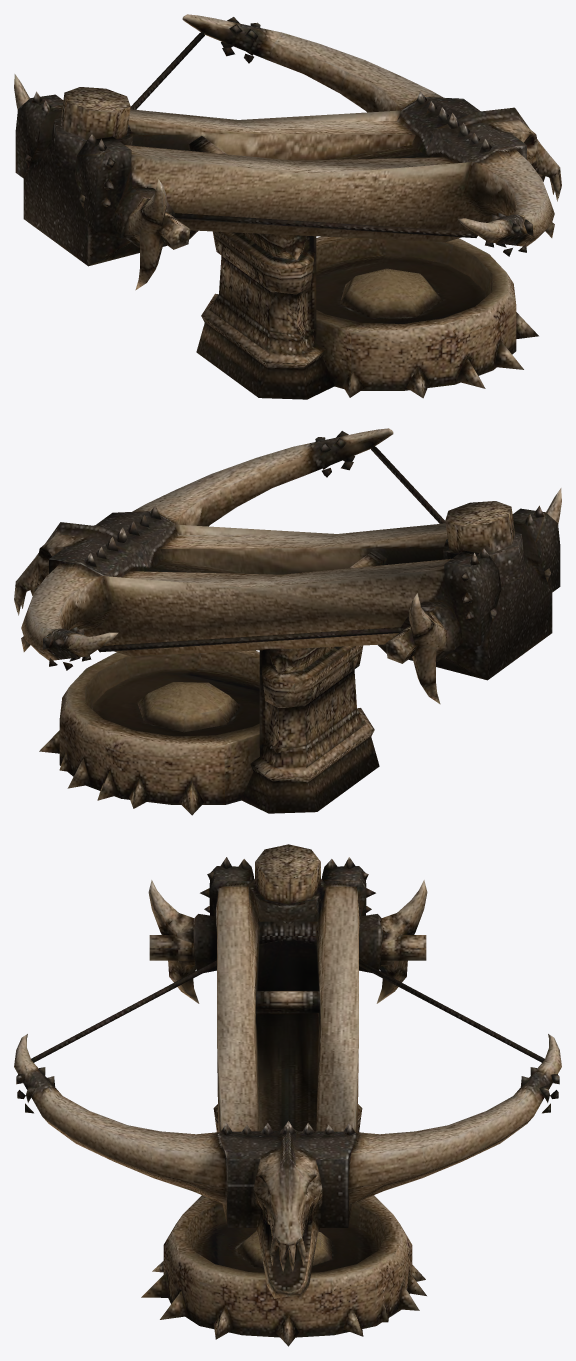
File: tripo_convert_8fde3e2a-0f0b-4735-9805-5ec25b473a17.fbx
3 renders of one model, top to bottom at view 1: azimuth 30°, elevation 25°; view 2: azimuth 150°, elevation 25°; view 3: azimuth 270°, elevation 25°, orthographic. The views are drawn at different scales.
Visible parts, largest first — view 1: tripo_node_8fde3e2a; view 2: tripo_node_8fde3e2a; view 3: tripo_node_8fde3e2a.
Part boxes in pixels (box(x1,y1,x2,y2)): tripo_node_8fde3e2a: box(14, 14, 561, 399); tripo_node_8fde3e2a: box(14, 428, 561, 815); tripo_node_8fde3e2a: box(14, 844, 561, 1346).
Bounding box in the file's own units: 0.998 × 0.5879 × 0.9863.
Materials: 1 (1 with a texture image).
